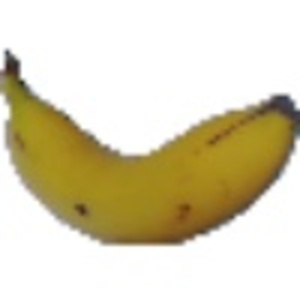banana: (1, 49, 297, 255)
